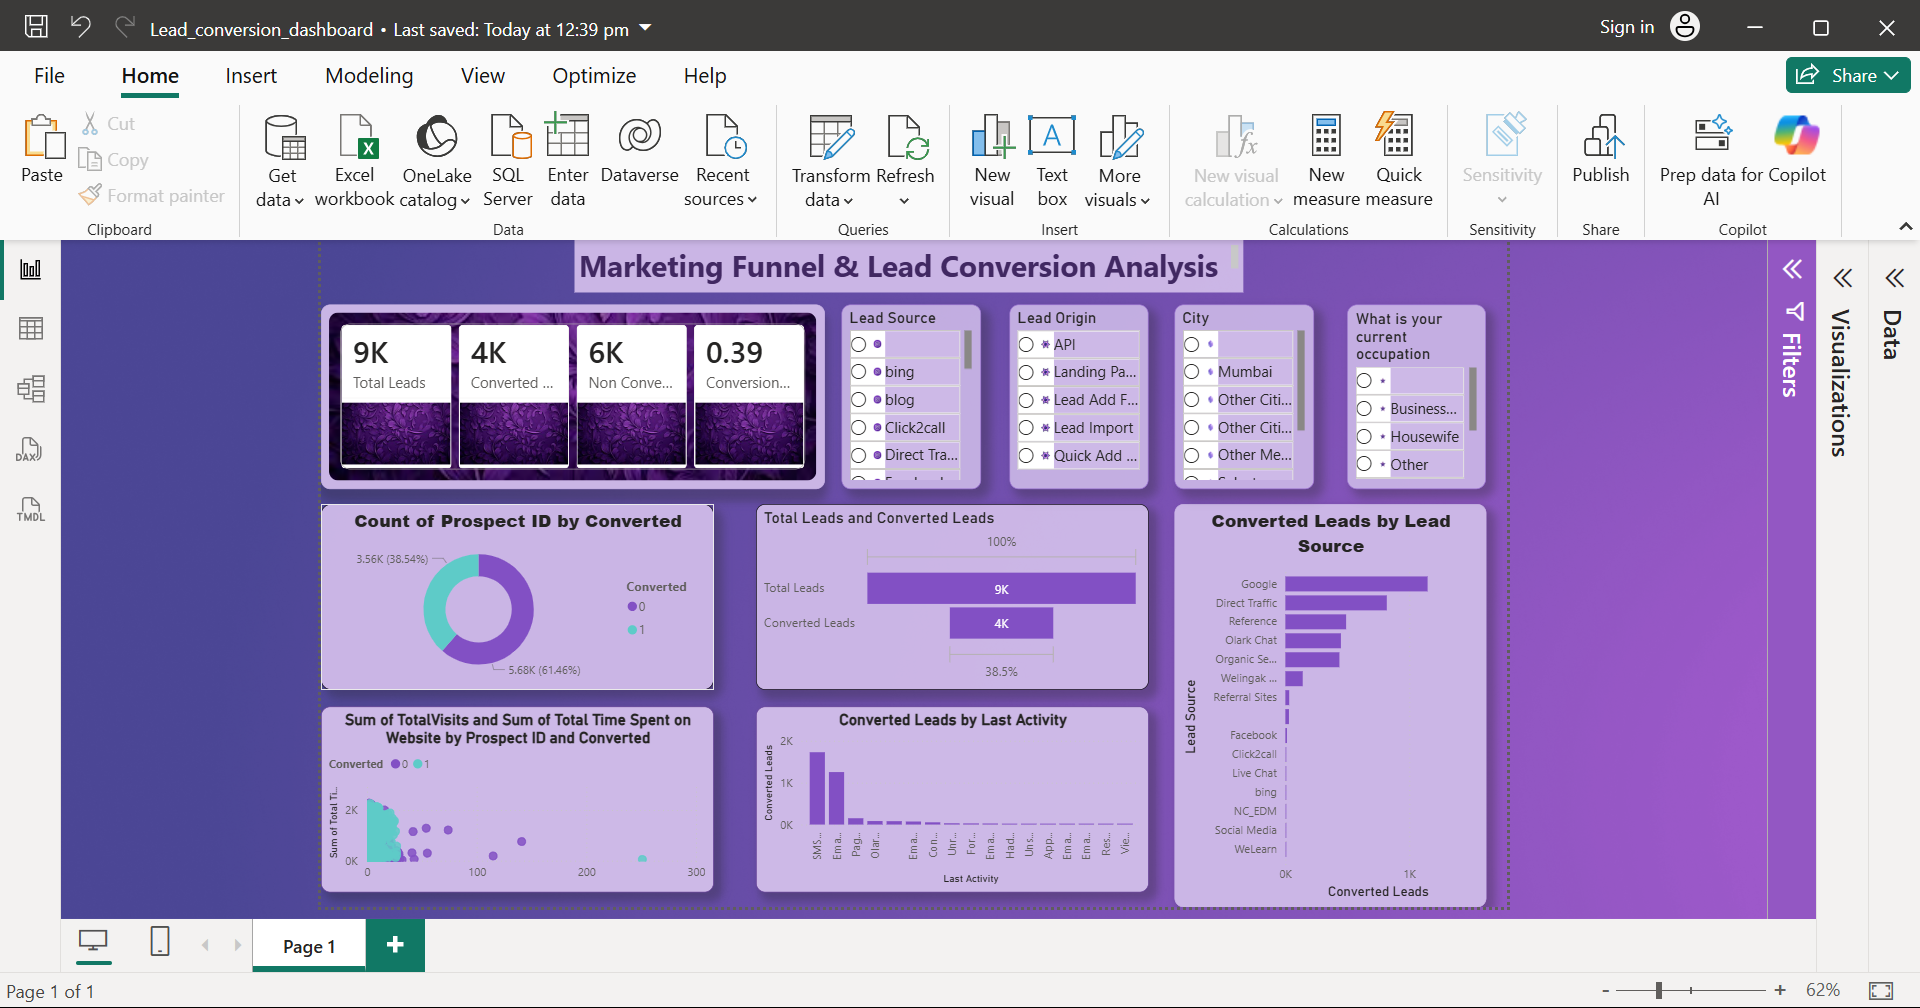

The page's visual inventory and layout, read from the dashboard file:
{"tool":"powerbi","page":{"name":"Page 1","canvas":[1280,720],"ordinal":0},"visuals":[{"type":"cardVisual","fields":{"Data":["Lead Scoring.Total Leads","Lead Scoring.Converted Leads","Lead Scoring.Non Converted Leads","Lead Scoring.Conversion Rate"]},"box":[18.9,69.9,667.1,251.3],"z":0},{"type":"funnel","fields":{"Y":["Lead Scoring.Total Leads","Lead Scoring.Converted Leads"]},"box":[353.4,355.3,359.1,177.6],"z":1000},{"type":"barChart","fields":{"Y":["Lead Scoring.Converted Leads"],"Category":["Lead Scoring.Lead Source"]},"box":[727.6,69.9,536.7,463],"z":2000},{"type":"donutChart","fields":{"Category":["Lead Scoring.Converted"],"Y":["CountNonNull(Lead Scoring.Prospect ID)"]},"box":[18.9,355.3,321.3,353.4],"z":3000},{"type":"listSlicer","fields":{"Values":["Lead Scoring.Lead Source"]},"box":[353.4,555.6,238.1,153.1],"z":4000},{"type":"listSlicer","fields":{"Values":["Lead Scoring.Lead Origin"]},"box":[608.5,555.6,238.1,153.1],"z":5000},{"type":"listSlicer","fields":{"Values":["Lead Scoring.City"]},"box":[865.5,555.6,189,153.1],"z":6000},{"type":"listSlicer","fields":{"Values":["Lead Scoring.What is your current occupation"]},"box":[1075.3,555.6,189,153.1],"z":7000},{"type":"textbox","box":[274,0,721.9,56.7],"z":8000}]}

Visuals, with their boxes on the page's 1280x720 design canvas (x1, y1, x2, y2). These are canvas units, not pixel positions in the 1920x1008 screenshot, which may show the page scaled, cropped or inside an application window:
cardVisual - Lead Scoring.Total Leads x Lead Scoring.Converted Leads: (19,70,686,321)
funnel - Lead Scoring.Total Leads x Lead Scoring.Converted Leads: (353,355,712,533)
barChart - Lead Scoring.Converted Leads x Lead Scoring.Lead Source: (728,70,1264,533)
donutChart - Lead Scoring.Converted x CountNonNull(Lead Scoring.Prospect ID): (19,355,340,709)
listSlicer - Lead Scoring.Lead Source: (353,556,592,709)
listSlicer - Lead Scoring.Lead Origin: (608,556,847,709)
listSlicer - Lead Scoring.City: (866,556,1054,709)
listSlicer - Lead Scoring.What is your current occupation: (1075,556,1264,709)
textbox: (274,0,996,57)
